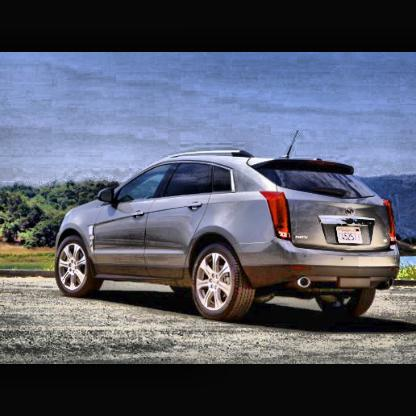Cadillac SRX SUV 2012: (56, 152, 402, 323)
